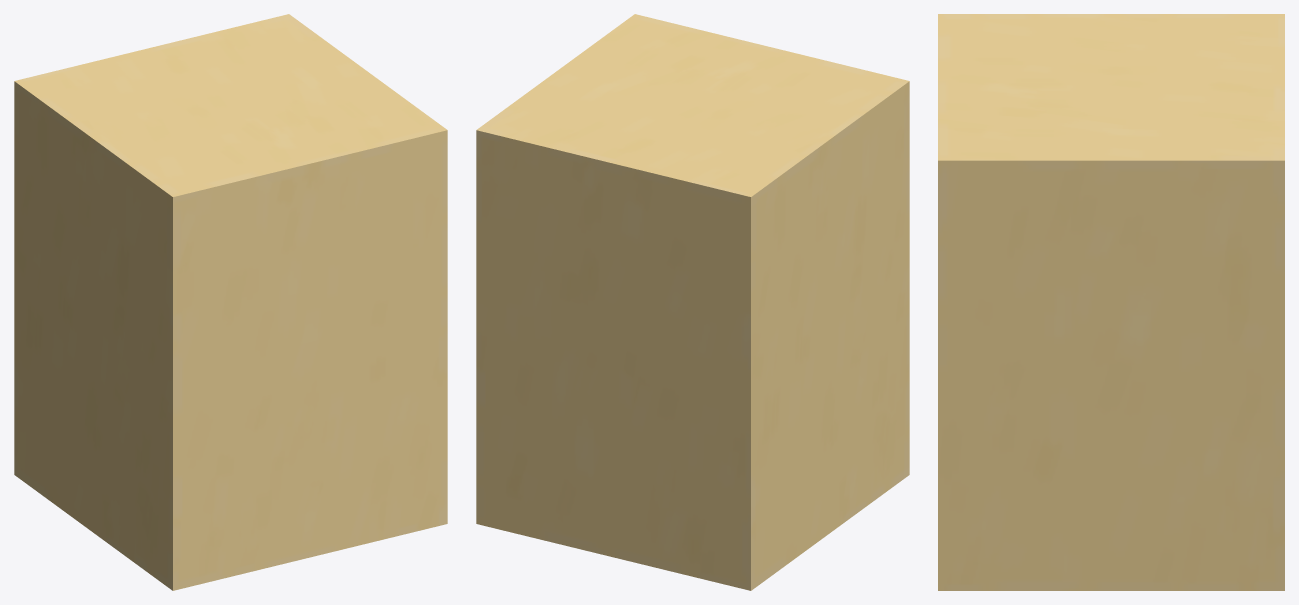
Rendered from lantern_glass.fbx.
3 views of the same model, side by side, from view 1: azimuth 30°, elevation 25°; view 2: azimuth 150°, elevation 25°; view 3: azimuth 270°, elevation 25° (orthographic). The views are drawn at different scales.
Parts seen in each view (by area): view 1: lantern_glass; view 2: lantern_glass; view 3: lantern_glass.
Part boxes in pixels (bbox=[...]): lantern_glass: bbox=[14, 14, 447, 590]; lantern_glass: bbox=[476, 14, 909, 590]; lantern_glass: bbox=[938, 14, 1284, 590].
Size of the model in its own units: 0.84 by 1.15 by 0.84.
